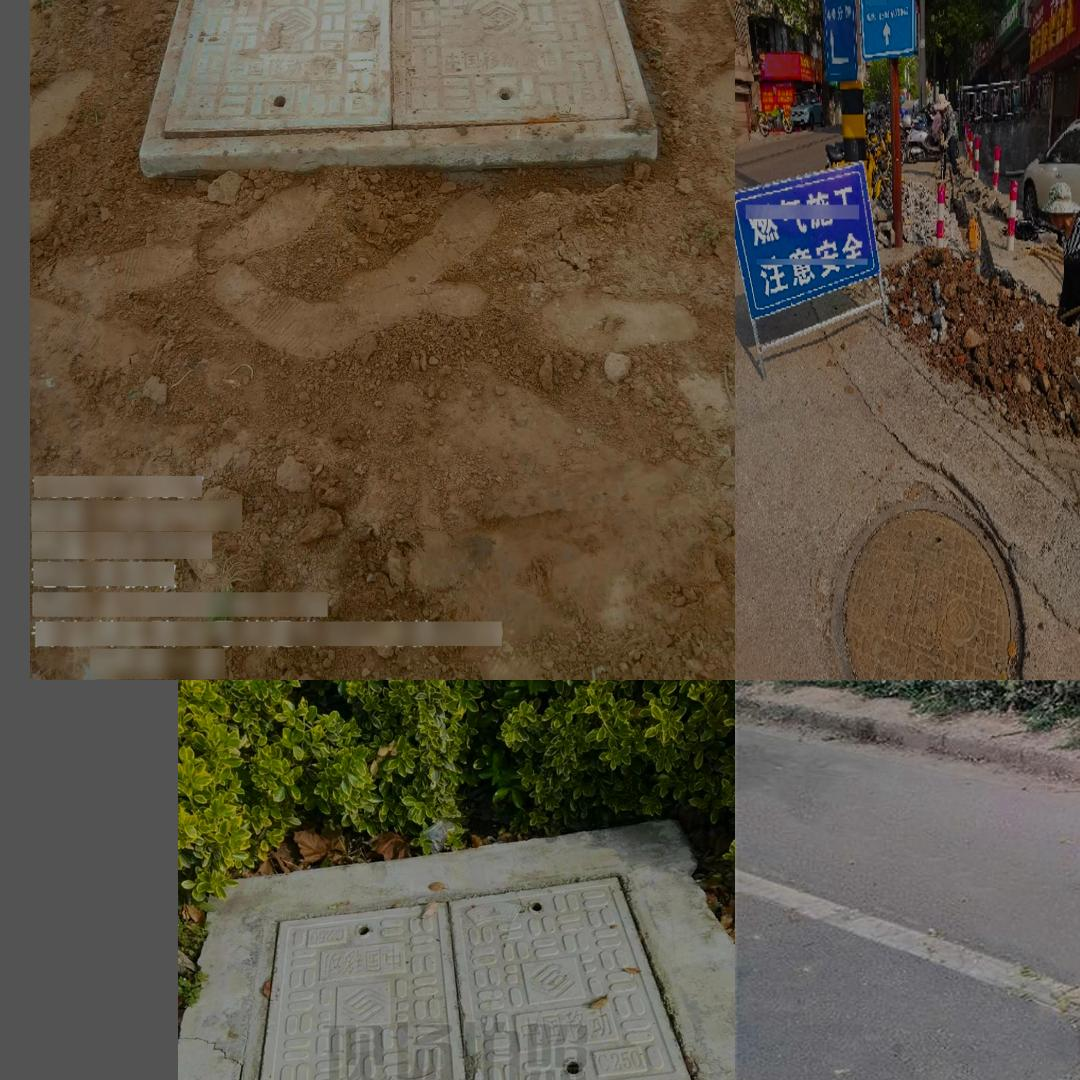good: (236, 871, 694, 1080), (140, 0, 658, 148), (828, 499, 1027, 680), (1069, 957, 1080, 1080)
